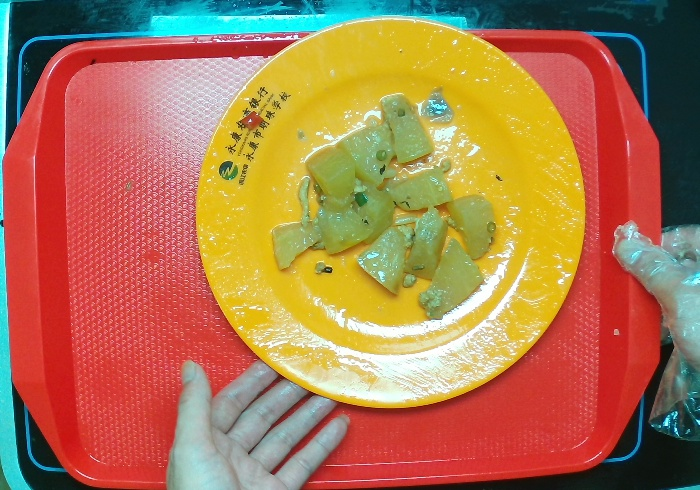YKMZ-Ju_Se_Mian_Pan: (182, 4, 609, 427)
